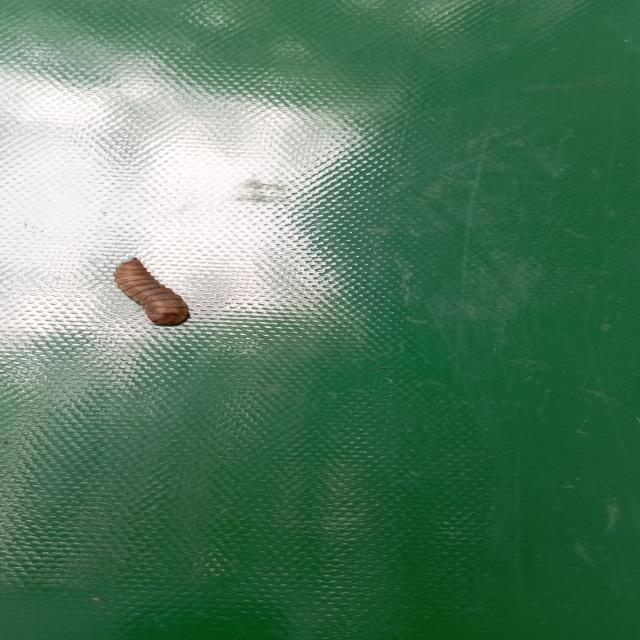Maggot: (113, 258, 191, 329)
